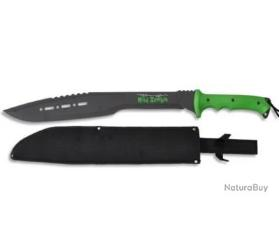MACHETTE: (0, 88, 279, 126)
